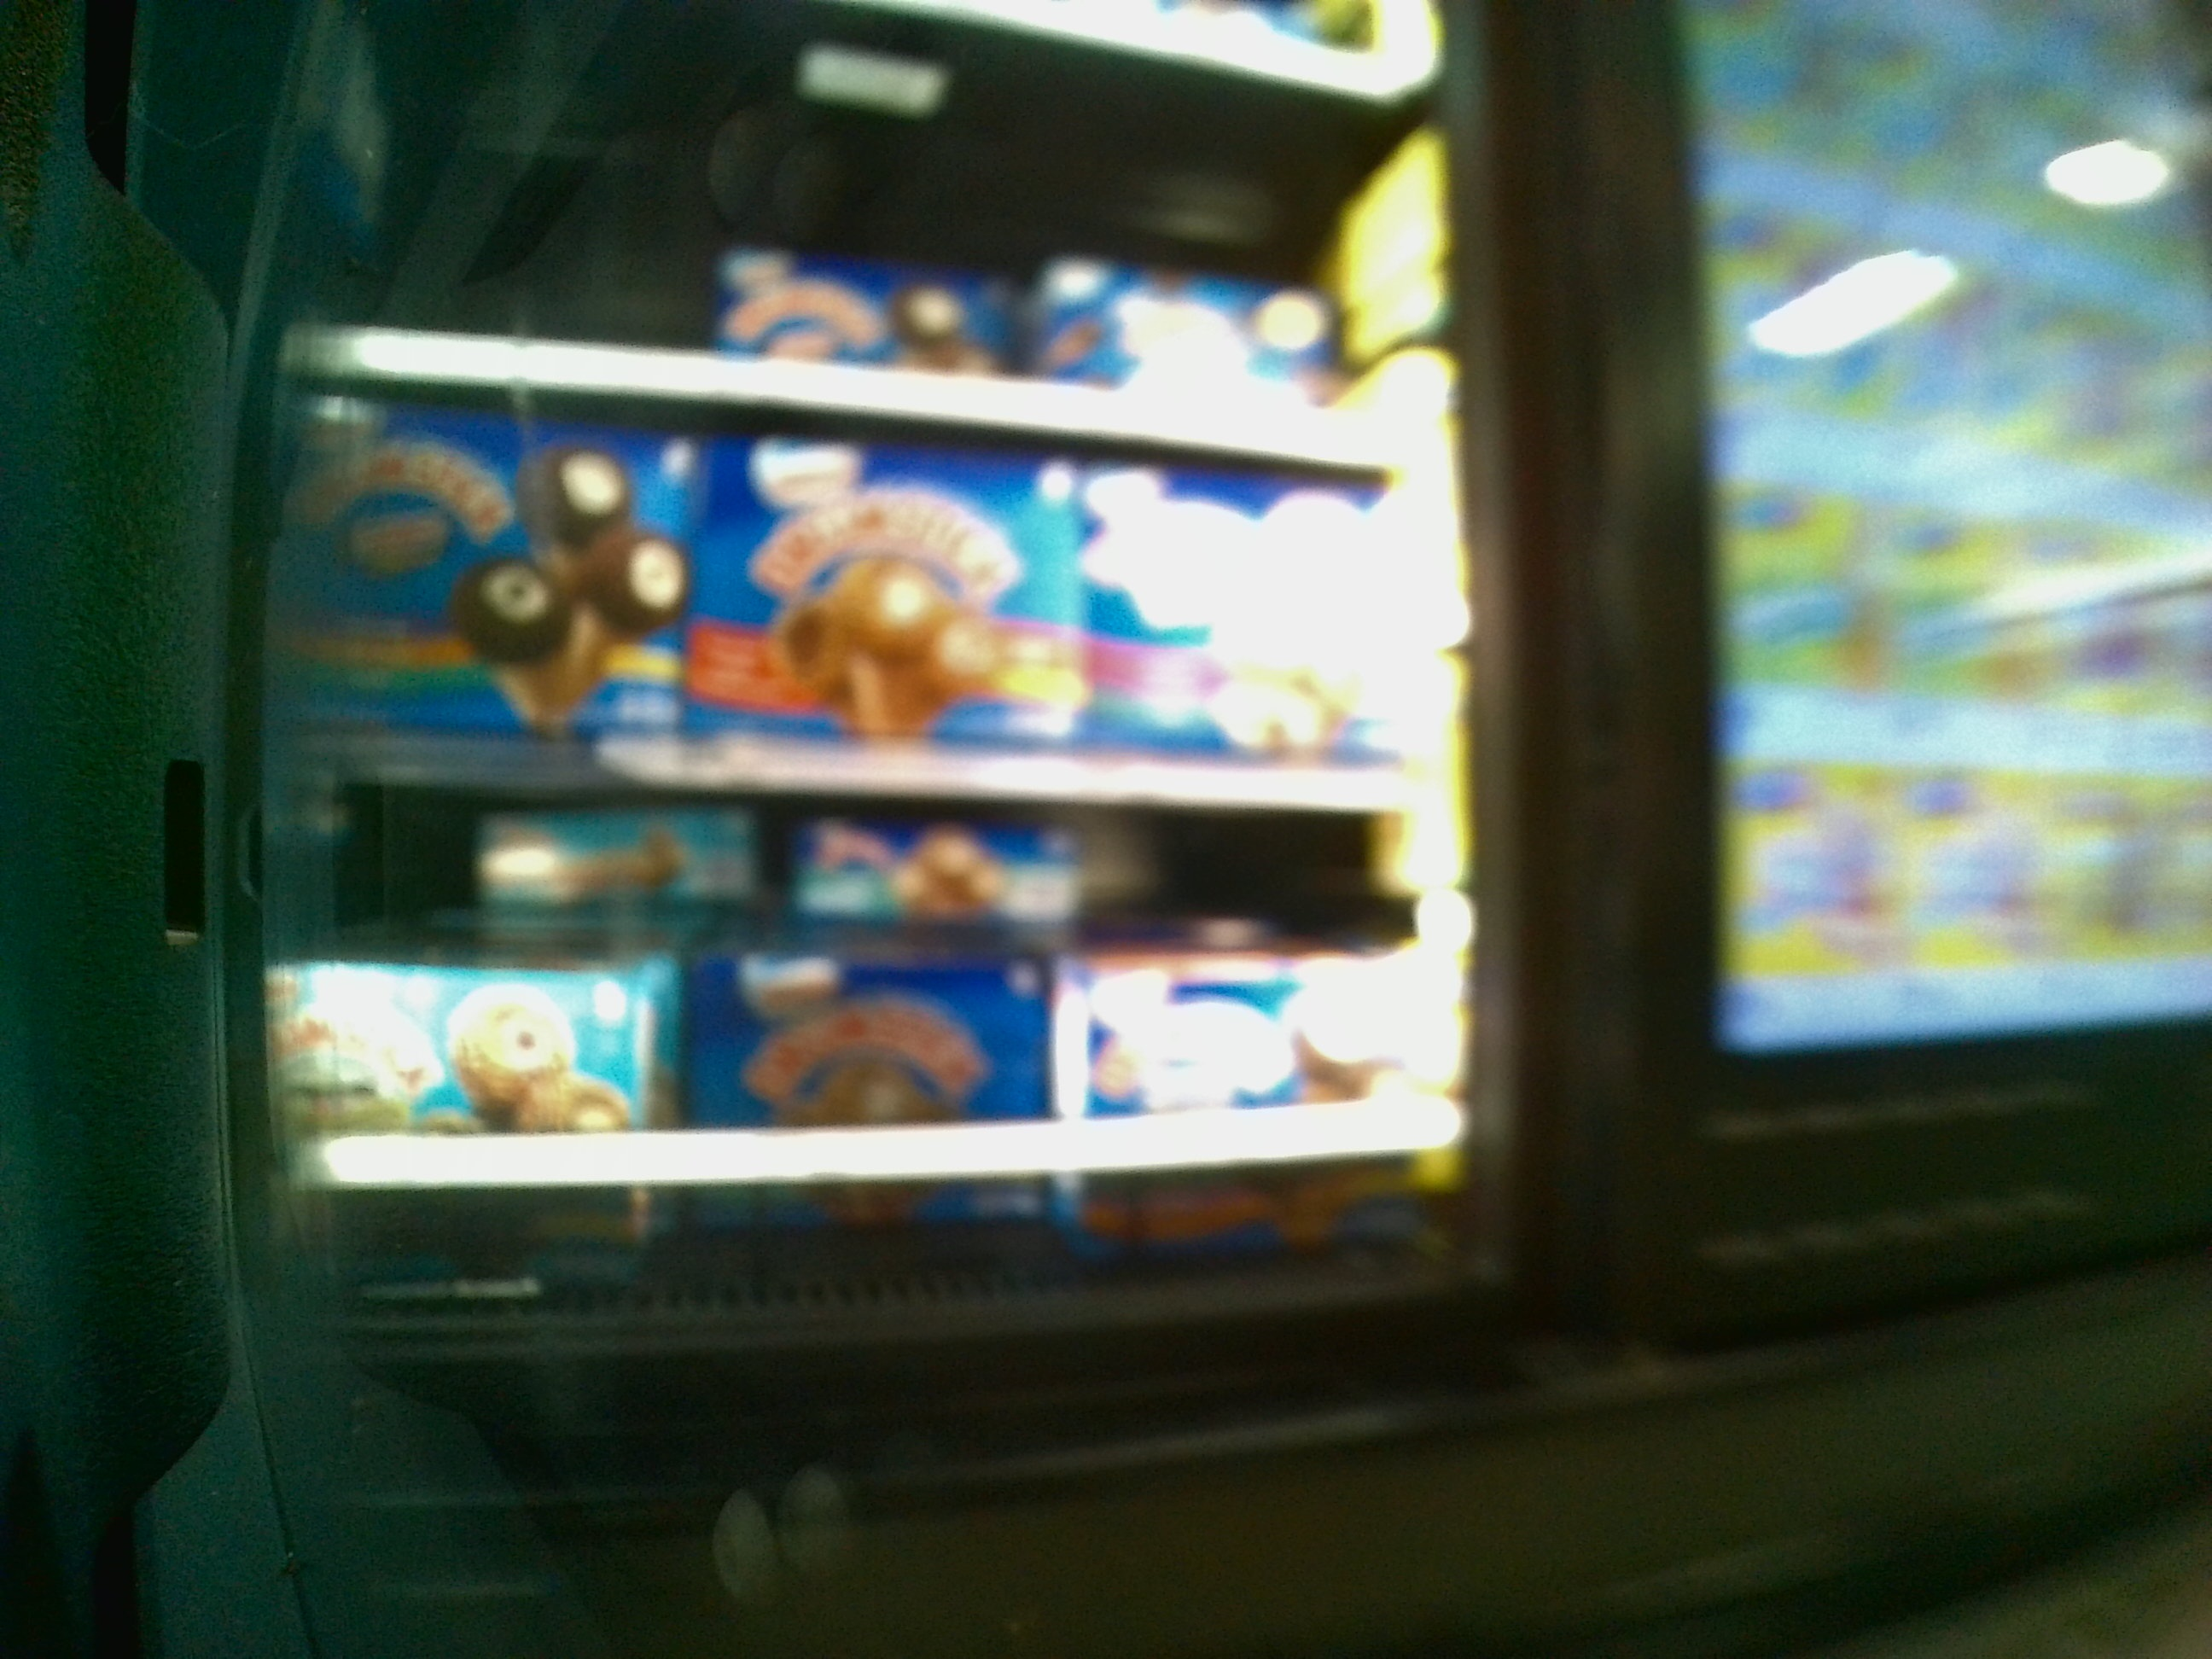shelf: (287, 784, 1470, 1256), (282, 406, 1447, 814)
